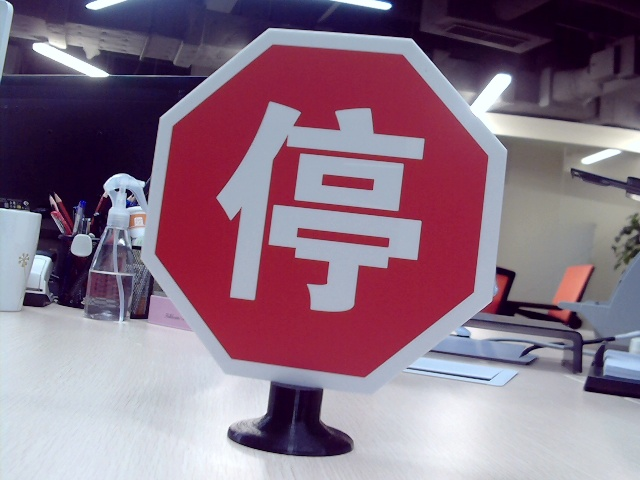stop: (222, 98, 427, 316)
